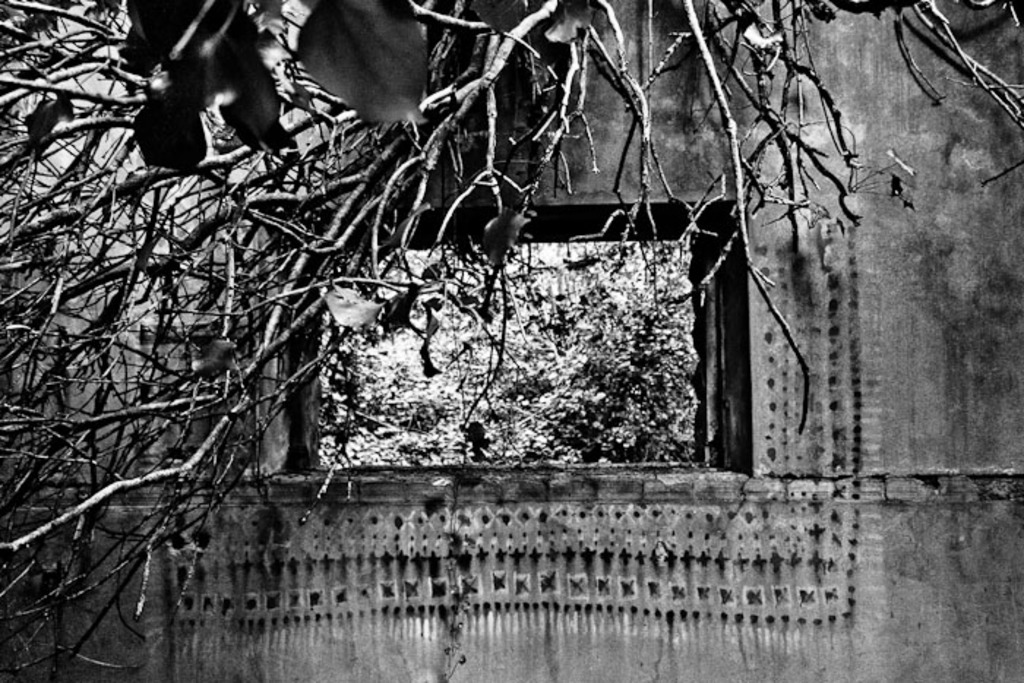Tree: (0, 0, 1022, 681), (301, 245, 709, 472)
